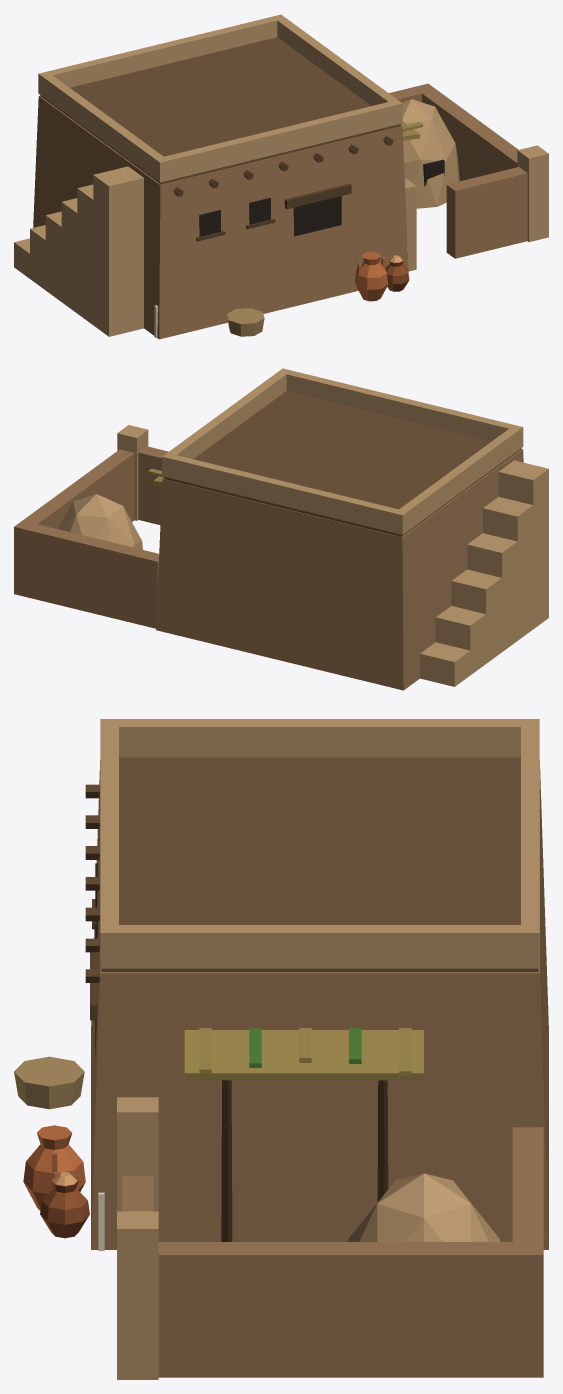
Rendered from desert_mudhouse.glb.
3 views of the same model, one above another, from view 1: azimuth 30°, elevation 25°; view 2: azimuth 150°, elevation 25°; view 3: azimuth 270°, elevation 25° (orthographic). The views are drawn at different scales.
Visible parts, largest first — view 1: desert_mudhouse; view 2: desert_mudhouse; view 3: desert_mudhouse.
Boxes of the visible parts, x1,y1,x2,y2 form: desert_mudhouse: (14, 14, 548, 339); desert_mudhouse: (14, 368, 548, 690); desert_mudhouse: (14, 719, 548, 1379).
Size of the model in its own units: 8.65 by 3.33 by 5.14.
